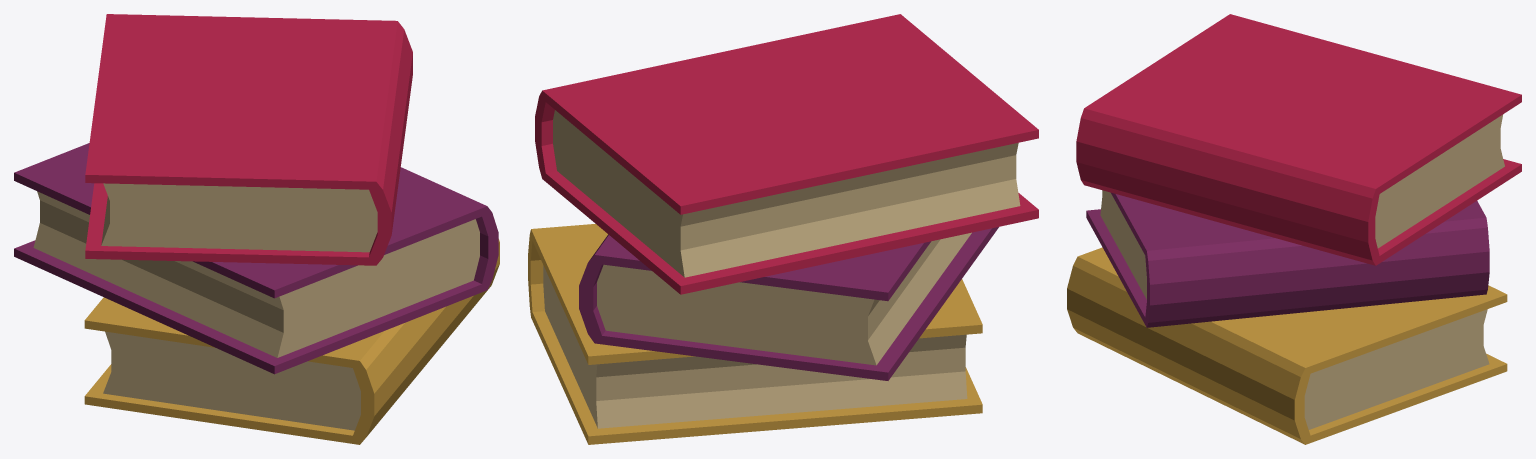
File: Books.fbx
The picture shows the model from 3 angles, left to right: view 1: azimuth 30°, elevation 25°; view 2: azimuth 150°, elevation 25°; view 3: azimuth 270°, elevation 25°; orthographic projection. The views are drawn at different scales.
Visible parts, largest first — view 1: Book30, Book31, Book32; view 2: Book30, Book32, Book31; view 3: Book30, Book32, Book31.
Boxes of the visible parts, x1,y1,x2,y2 form: Book30: (85, 14, 412, 265); Book31: (14, 143, 498, 374); Book32: (84, 239, 499, 444); Book30: (535, 14, 1038, 294); Book32: (528, 224, 982, 444); Book31: (579, 227, 998, 380); Book30: (1076, 14, 1521, 265); Book32: (1067, 247, 1507, 444); Book31: (1086, 190, 1489, 327).
Bounding box in the file's own units: 25.21 × 13.7 × 24.13.
